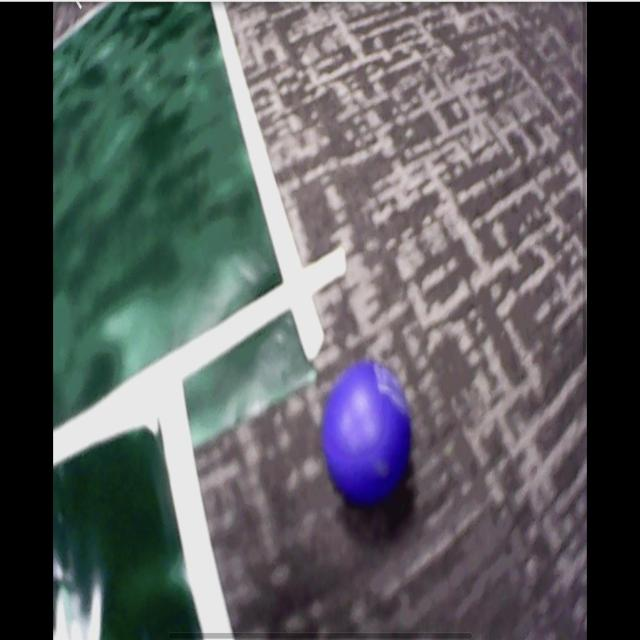ball: (326, 368, 409, 509)
